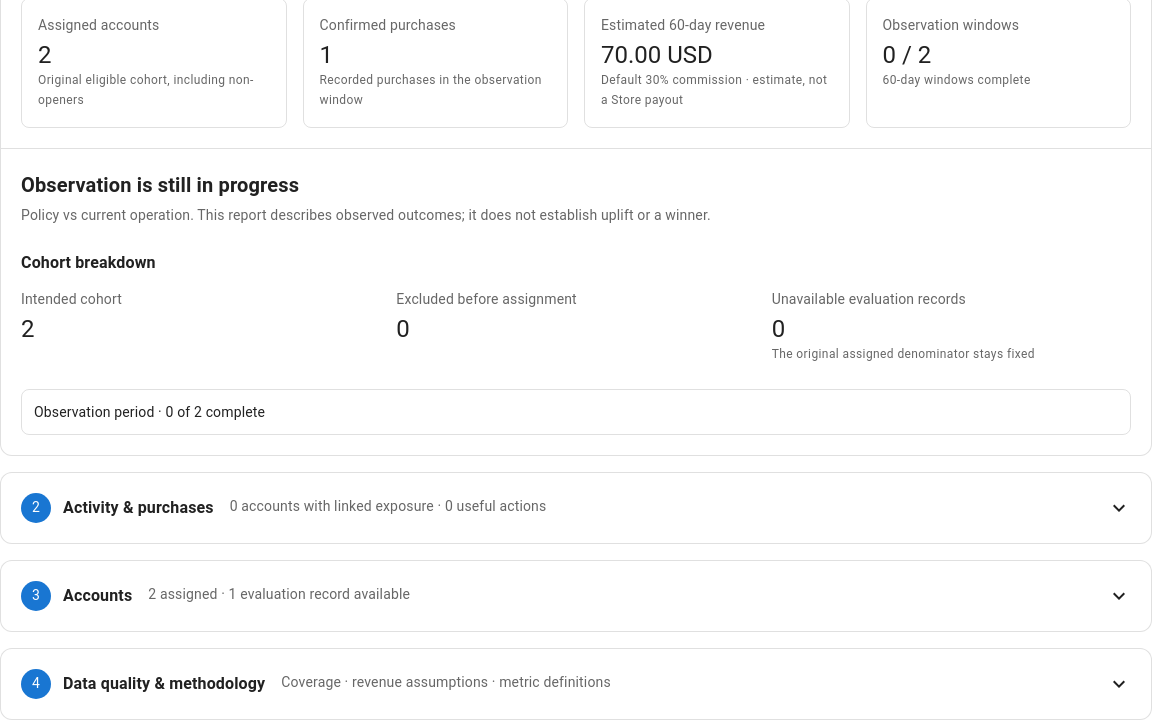
it: keeps a nonzero default-commission estimate numeric and exposes calculation evidence
This screenshot has width=1152, height=720.
(page scrolled)
Expected: the text "70.00 USD" is shown, [601,41,713,69]
Click the heading that starts with "Data quality & methodology": (576, 684) [21,669,1131,699]
(page scrolled)
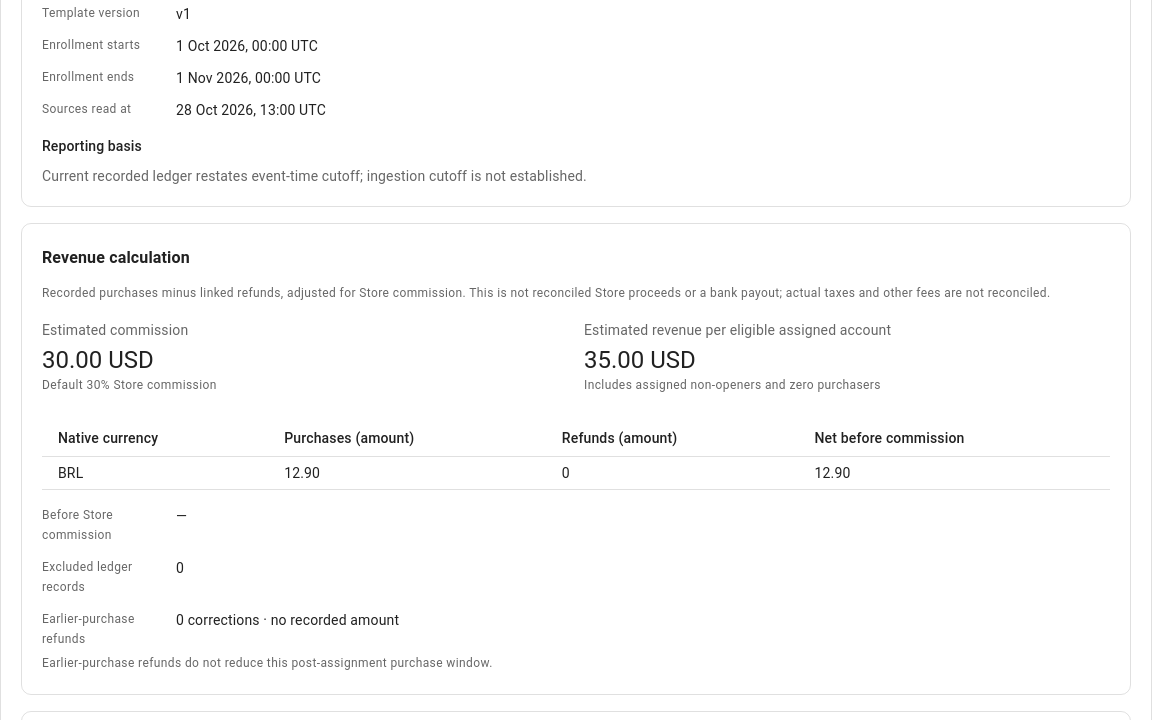
Expected: the text "30.00 USD" is shown, [42,346,154,374]
Expected: the text "35.00 USD" is shown, [584,346,696,374]
